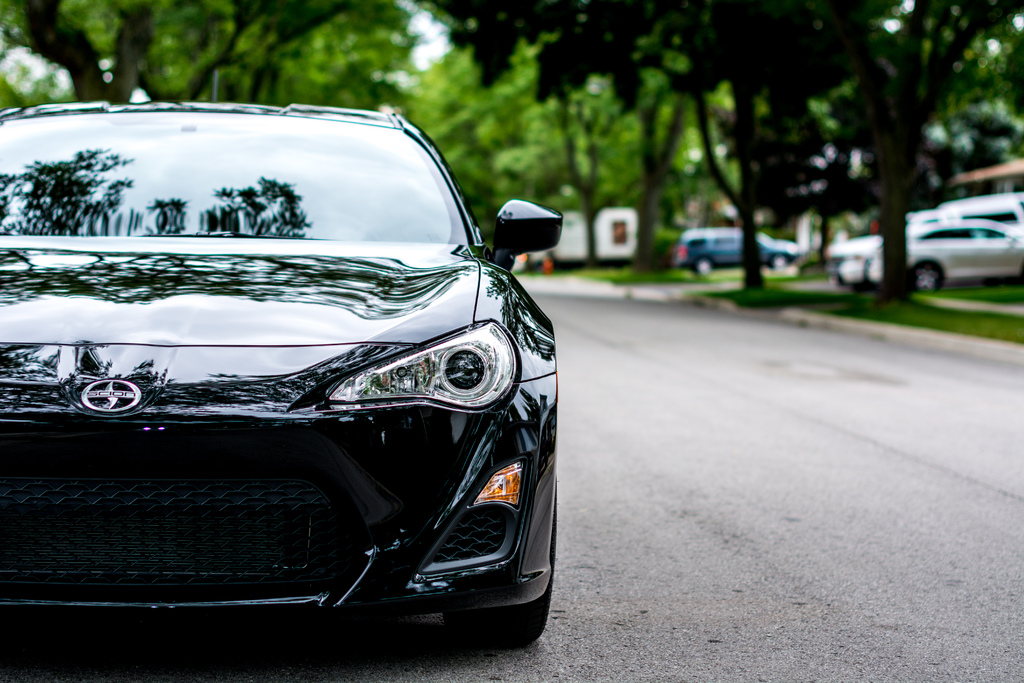Tree: (0, 0, 1023, 309)
